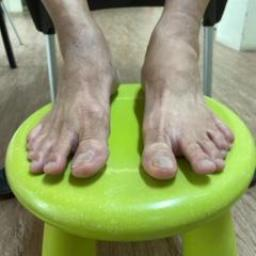Front View -Both Feet-: (12, 17, 248, 201)
